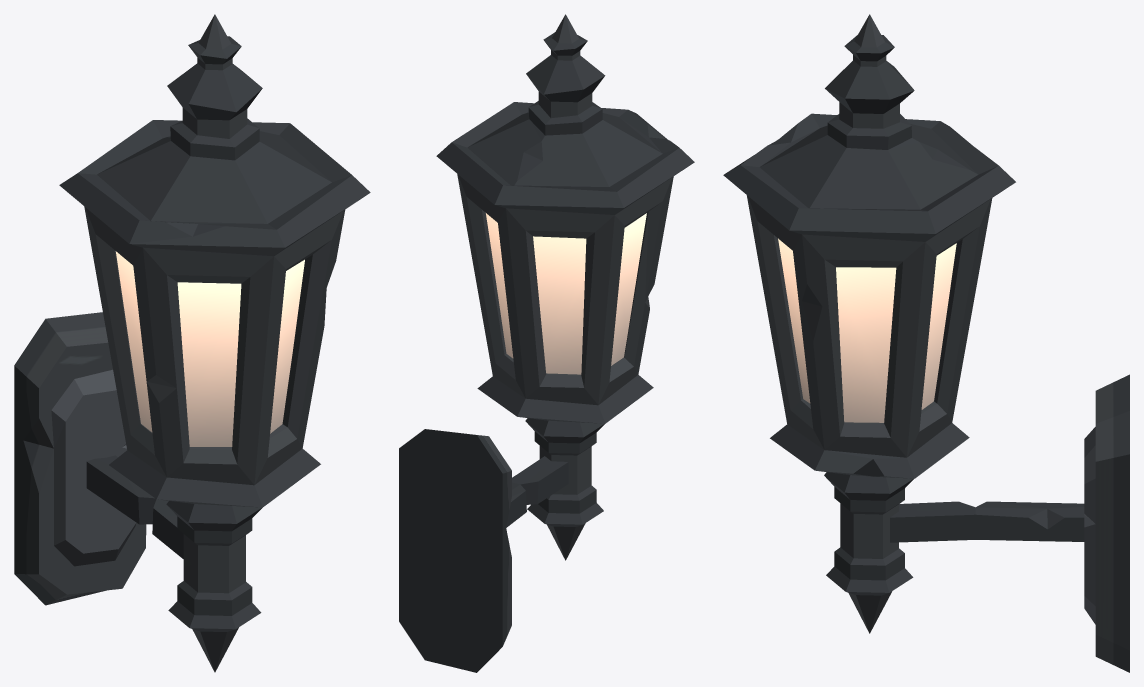
File: crypt_lantern.gltf
3 renders of one model, left to right at view 1: azimuth 30°, elevation 25°; view 2: azimuth 150°, elevation 25°; view 3: azimuth 270°, elevation 25°, orthographic. The views are drawn at different scales.
Visible parts, largest first — view 1: crypt_lantern; view 2: crypt_lantern; view 3: crypt_lantern.
Boxes of the visible parts, bbox=[...] form: crypt_lantern: bbox=[14, 14, 370, 672]; crypt_lantern: bbox=[399, 14, 694, 672]; crypt_lantern: bbox=[723, 14, 1129, 672].
Size of the model in its own units: 0.2657 by 0.7206 by 0.4122.
1 material, 1 textured.
